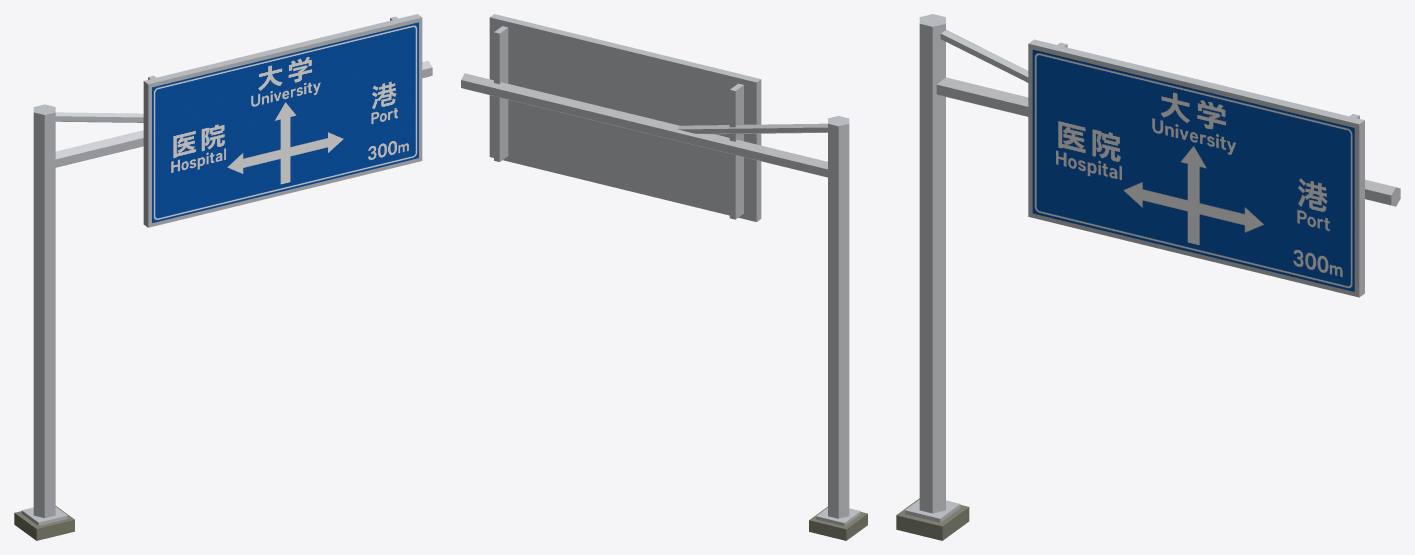
3 views of the same model, side by side, from view 1: azimuth 30°, elevation 25°; view 2: azimuth 150°, elevation 25°; view 3: azimuth 330°, elevation 25° (orthographic). The views are drawn at different scales.
Parts seen in each view (by area): view 1: RoadSign_121; view 2: RoadSign_121; view 3: RoadSign_121.
Part boxes in pixels (box(x1,y1,x2,y2)): RoadSign_121: box(14, 14, 432, 540); RoadSign_121: box(461, 14, 867, 540); RoadSign_121: box(896, 14, 1400, 540).
Bounding box in the file's own units: 8.82 × 9 × 0.886.
Materials: 3 (1 with a texture image).
